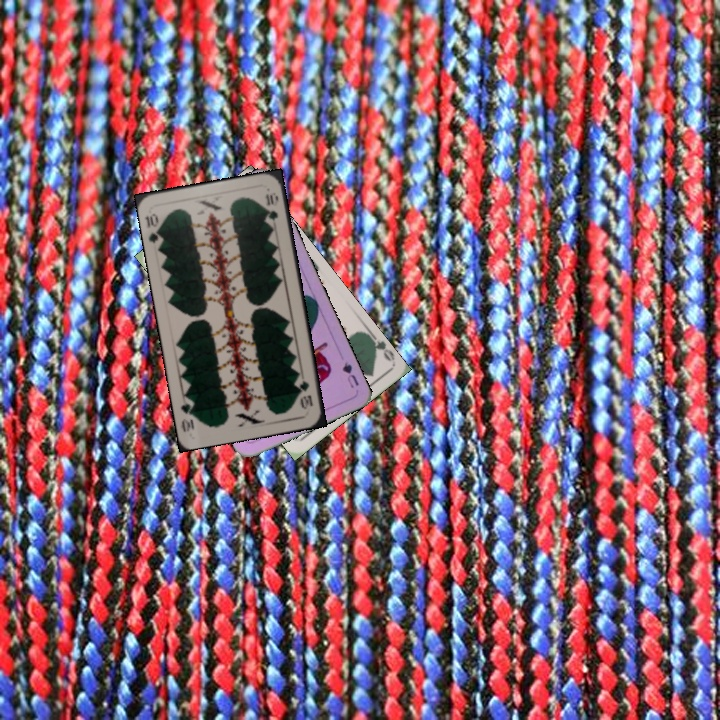G10: (142, 209, 166, 247), (293, 372, 315, 412)
GO: (365, 329, 397, 364)
GU: (338, 358, 361, 391)
